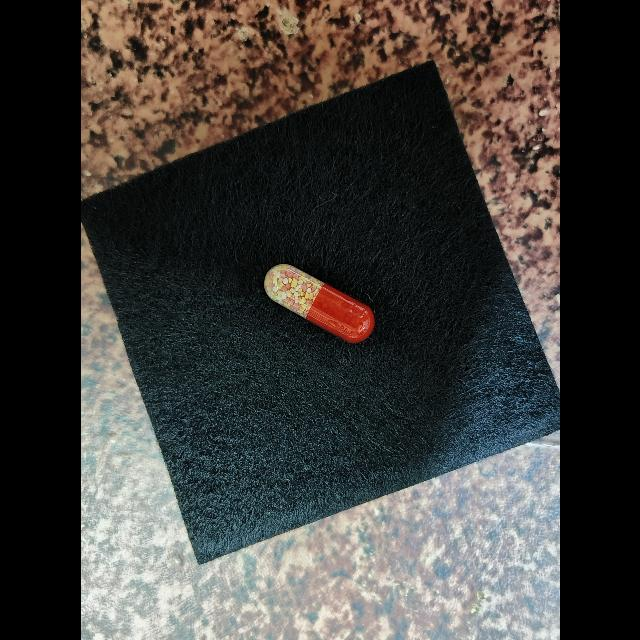Intact Capsule: (263, 264, 374, 343)
